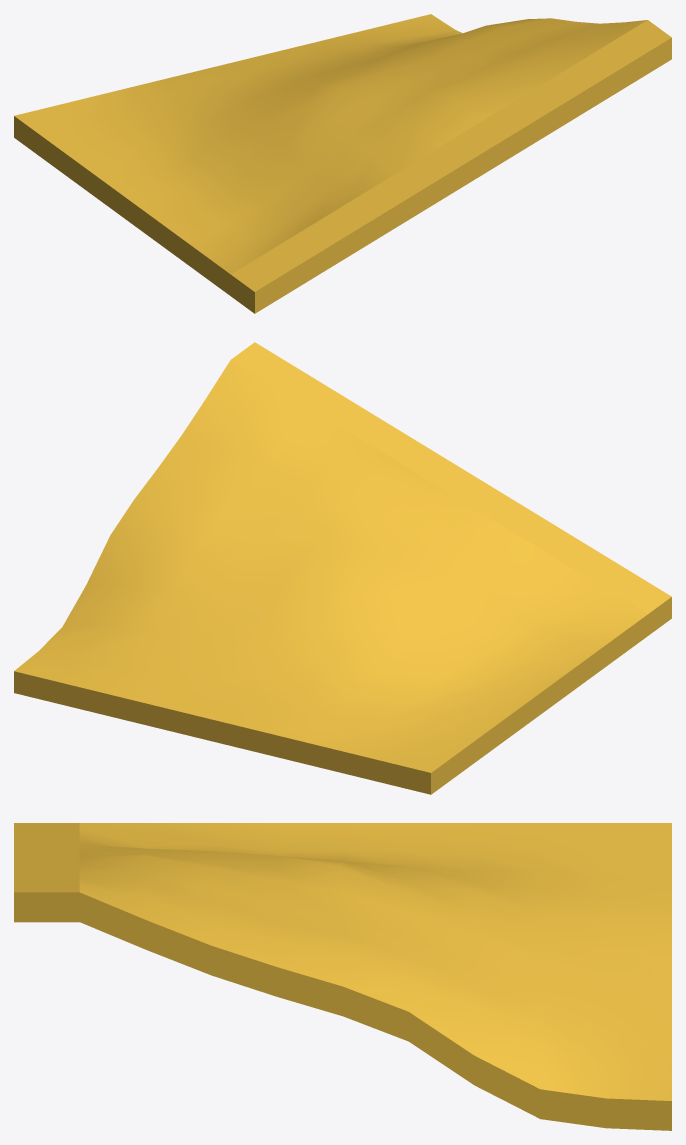
The model's file is Flach - Mitte - Ecke a -  x.fbx.
The picture shows the model from 3 angles, top to bottom: view 1: azimuth 30°, elevation 25°; view 2: azimuth 150°, elevation 25°; view 3: azimuth 270°, elevation 25°; orthographic projection. The views are drawn at different scales.
Parts seen in each view (by area): view 1: Flach - Mitte - Ecke a - x; view 2: Flach - Mitte - Ecke a - x; view 3: Flach - Mitte - Ecke a - x.
Part boxes in pixels (bbox=[...]): Flach - Mitte - Ecke a - x: bbox=[14, 14, 671, 313]; Flach - Mitte - Ecke a - x: bbox=[14, 342, 671, 794]; Flach - Mitte - Ecke a - x: bbox=[14, 823, 671, 1130].
Bounding box in the file's own units: 394 × 157 × 394.
